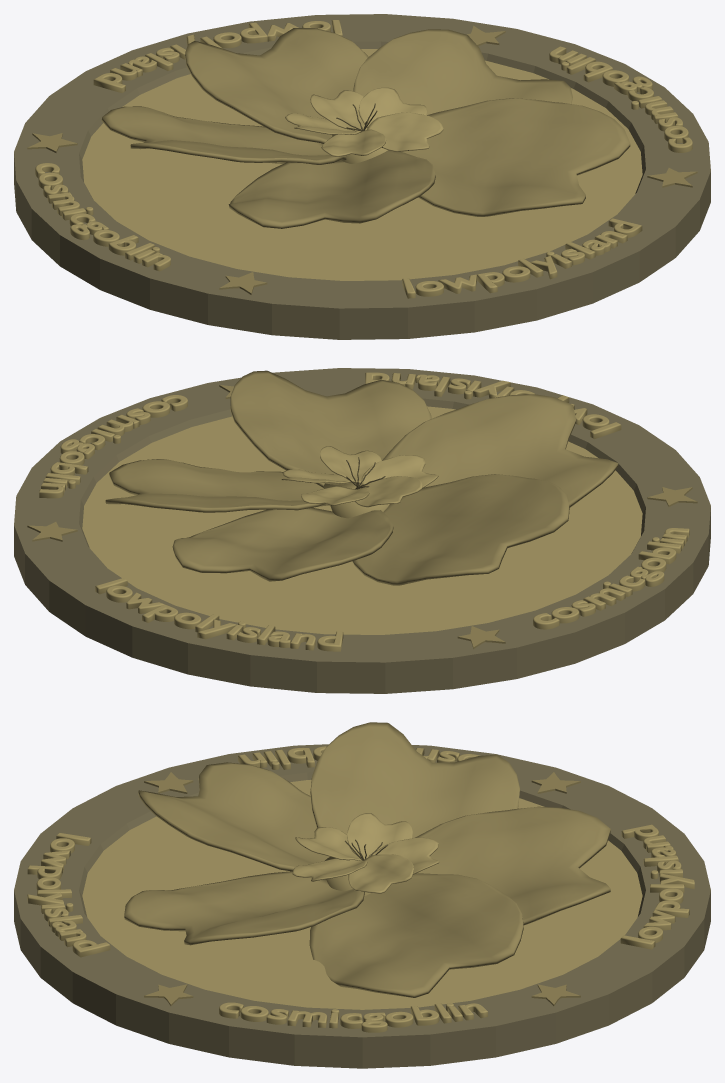
The model's file is coniy.fbx.
3 views of the same model, one above another, from view 1: azimuth 30°, elevation 25°; view 2: azimuth 150°, elevation 25°; view 3: azimuth 270°, elevation 25° (orthographic).
Parts seen in each view (by area): view 1: high poly; view 2: high poly; view 3: high poly.
Boxes of the visible parts, x1,y1,x2,y2 form: high poly: (14, 14, 710, 339); high poly: (14, 368, 710, 693); high poly: (14, 722, 710, 1068).
Bounding box in the file's own units: 200 × 33.84 × 200.
